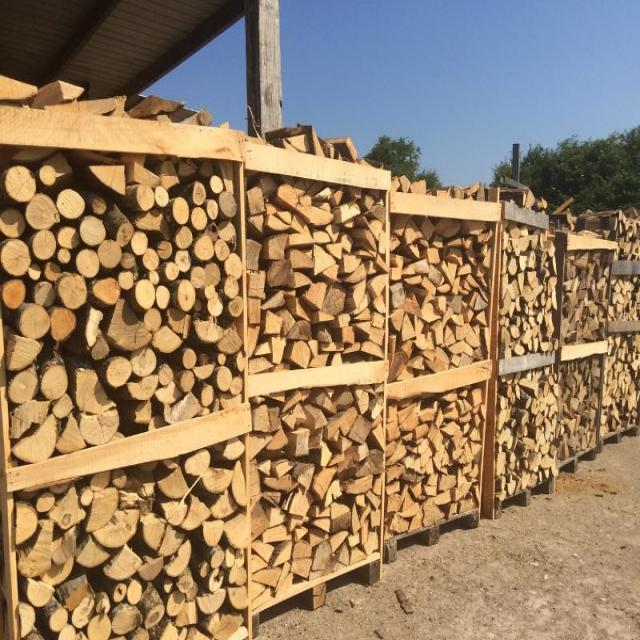Palette: (252, 552, 383, 640), (386, 503, 480, 569), (554, 422, 640, 486), (488, 481, 555, 531)
